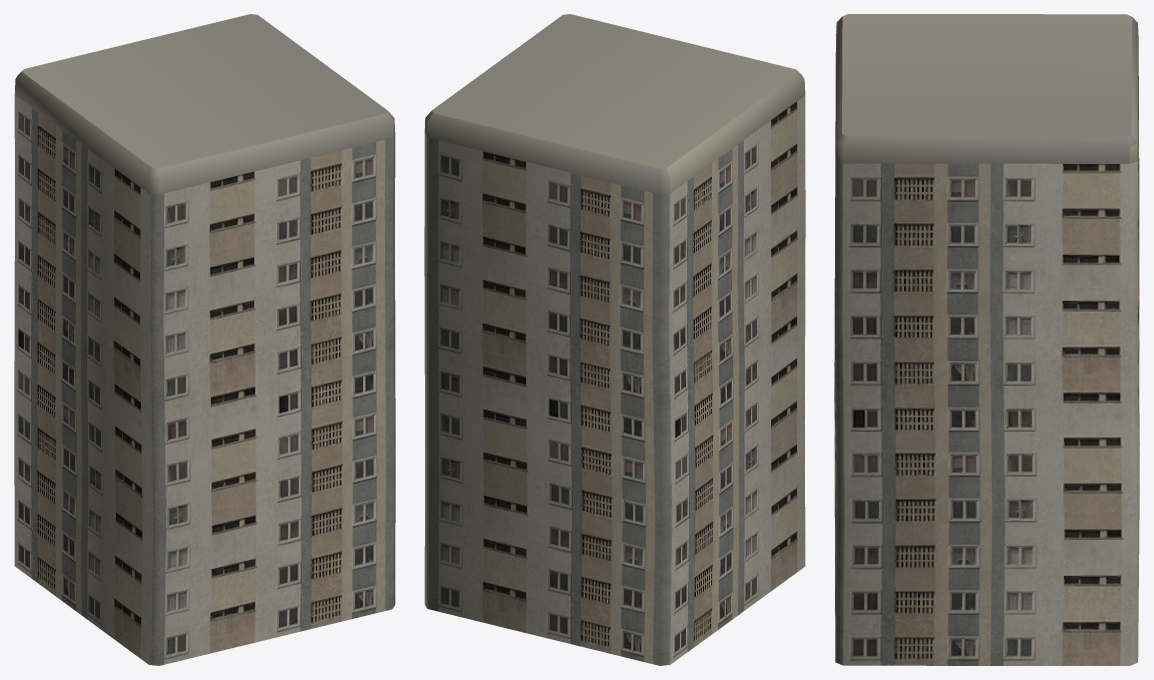
The model's file is 00_01_outside_simon_apart_bg_building.dae.
3 views of the same model, side by side, from view 1: azimuth 30°, elevation 25°; view 2: azimuth 150°, elevation 25°; view 3: azimuth 270°, elevation 25° (orthographic). The views are drawn at different scales.
Visible parts, largest first — view 1: apa_polySurface6; view 2: apa_polySurface6; view 3: apa_polySurface6.
Part boxes in pixels (x1,y1,x2,y2): apa_polySurface6: (14, 14, 395, 665); apa_polySurface6: (424, 14, 805, 665); apa_polySurface6: (834, 14, 1139, 665).
Size of the model in its own units: 11.28 by 11.28 by 21.48.
